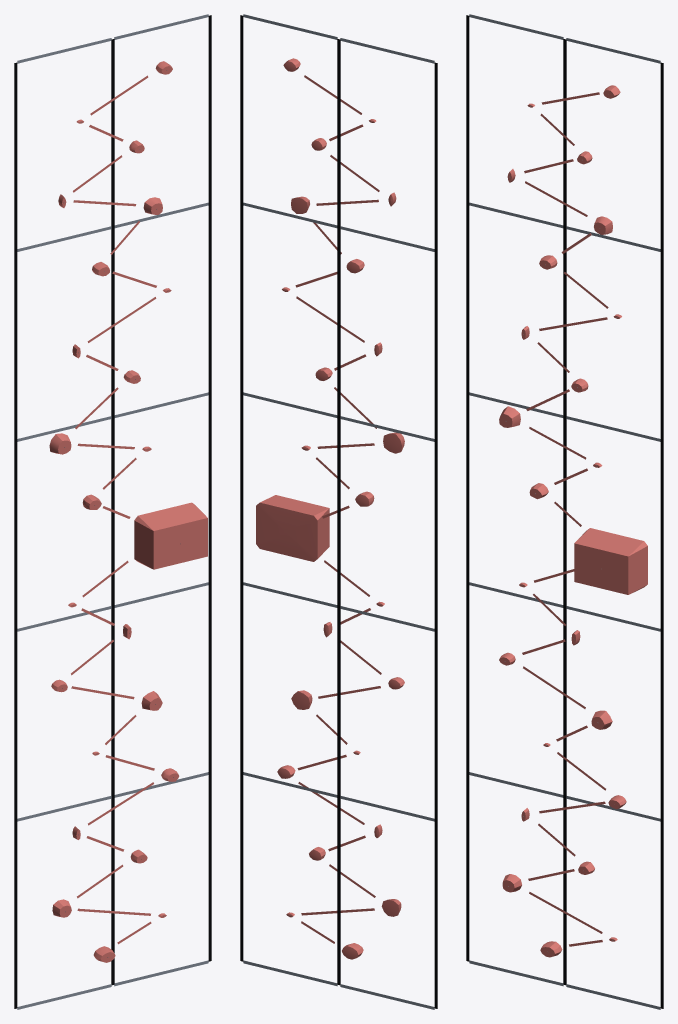
The model's file is tt_climb_lead_routes_g.glb.
The picture shows the model from 3 angles, left to right: view 1: azimuth 30°, elevation 25°; view 2: azimuth 150°, elevation 25°; view 3: azimuth 330°, elevation 25°; orthographic projection.
Visible parts, largest first — view 1: Grid_Mullion, Holds_PU, Route_Tape, Grid_Course_L, Grid_Course_R; view 2: Grid_Mullion, Holds_PU, Route_Tape, Grid_Course_L, Grid_Course_R; view 3: Grid_Mullion, Holds_PU, Route_Tape, Grid_Course_R, Grid_Course_L.
Boxes of the visible parts, x1=… form: Grid_Mullion: x1=14, y1=15, x2=211, y2=1008; Holds_PU: x1=49, y1=61, x2=207, y2=962; Route_Tape: x1=71, y1=75, x2=156, y2=944; Grid_Course_L: x1=17, y1=38, x2=111, y2=1009; Grid_Course_R: x1=114, y1=14, x2=208, y2=986; Grid_Mullion: x1=240, y1=15, x2=437, y2=1008; Holds_PU: x1=256, y1=58, x2=404, y2=959; Route_Tape: x1=295, y1=75, x2=381, y2=943; Grid_Course_L: x1=340, y1=38, x2=434, y2=1009; Grid_Course_R: x1=243, y1=14, x2=337, y2=986; Grid_Mullion: x1=466, y1=15, x2=663, y2=1008; Holds_PU: x1=499, y1=85, x2=647, y2=957; Route_Tape: x1=522, y1=92, x2=608, y2=946; Grid_Course_R: x1=566, y1=38, x2=660, y2=1009; Grid_Course_L: x1=469, y1=14, x2=563, y2=986.
Size of what is drawn, in the model's own units: 2.5 by 11.5 by 0.364.
5 materials, 2 textured.
